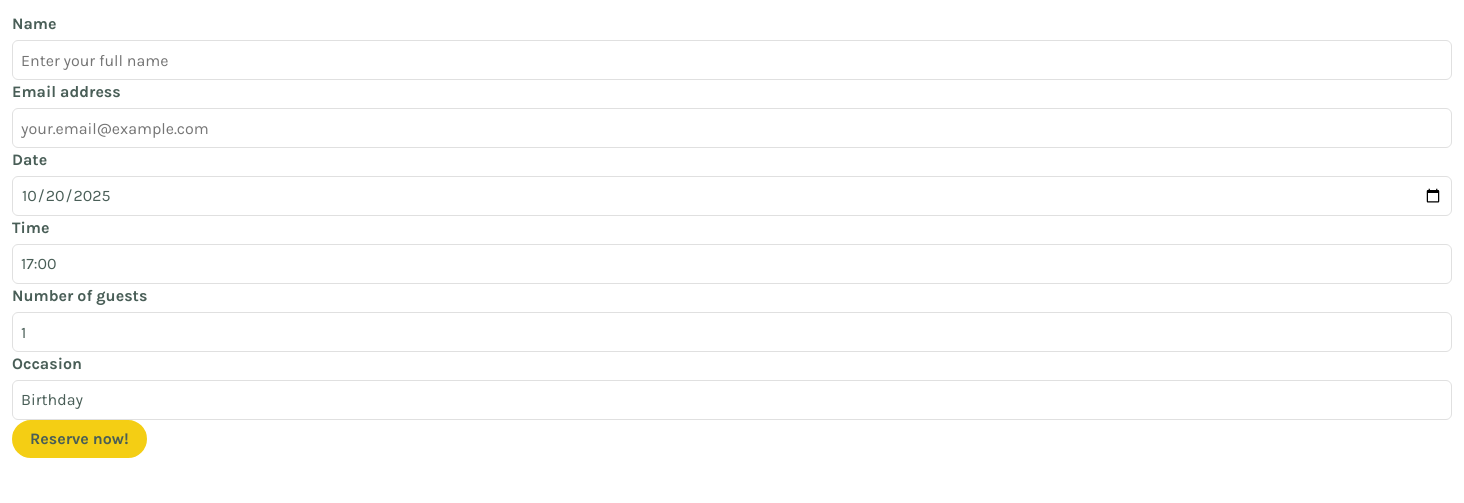
Test: Reservation form › should display an error message and disable sumbit button when date     field's value is empty
Clear the date field labelled "Date" at (732, 196), box [12,176,1452,216]
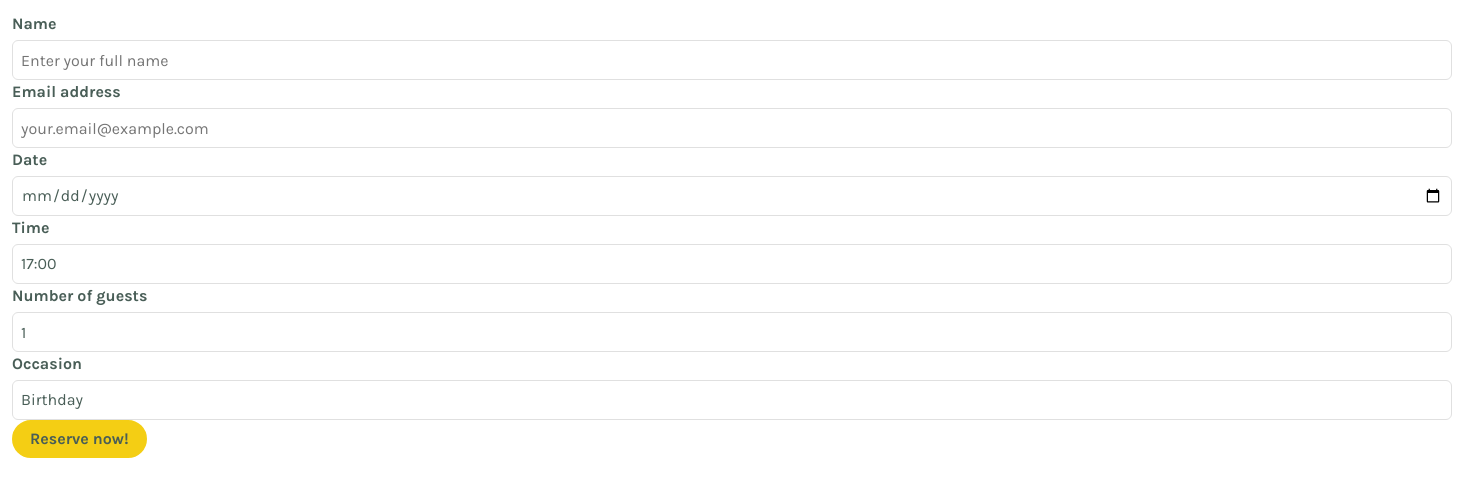
Leave the date field labelled "Date", box [12,176,1452,216]
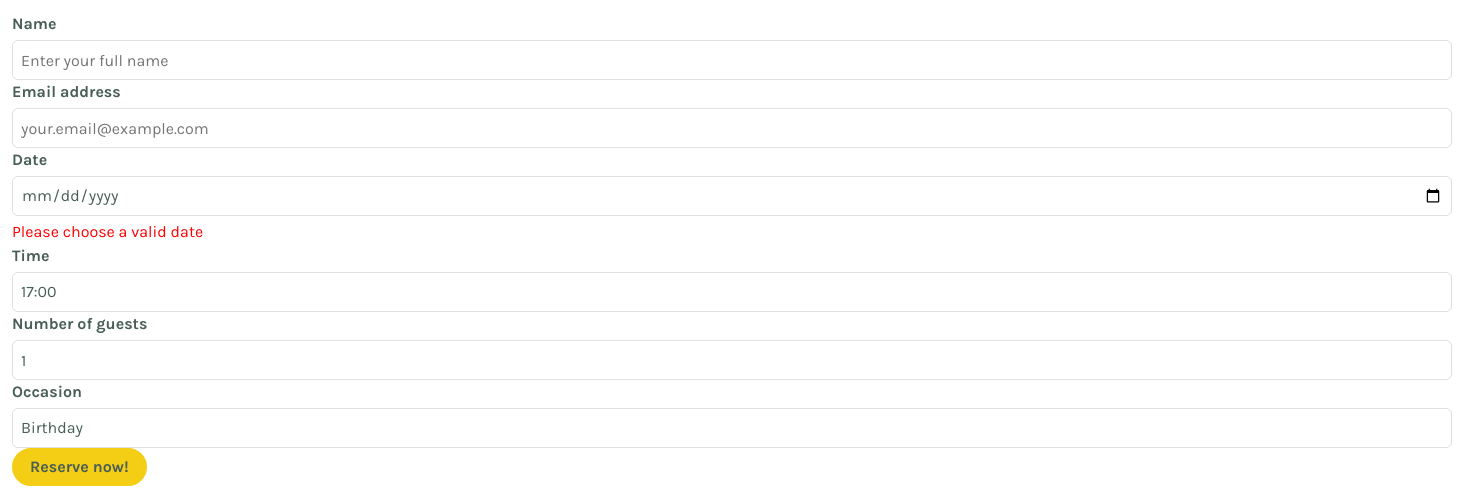
Result: the text "Please choose a valid date" is shown at [12,222,203,241]
Result: the button is disabled at [12,448,147,486]
